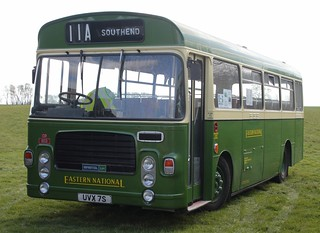bus: (23, 11, 304, 214)
